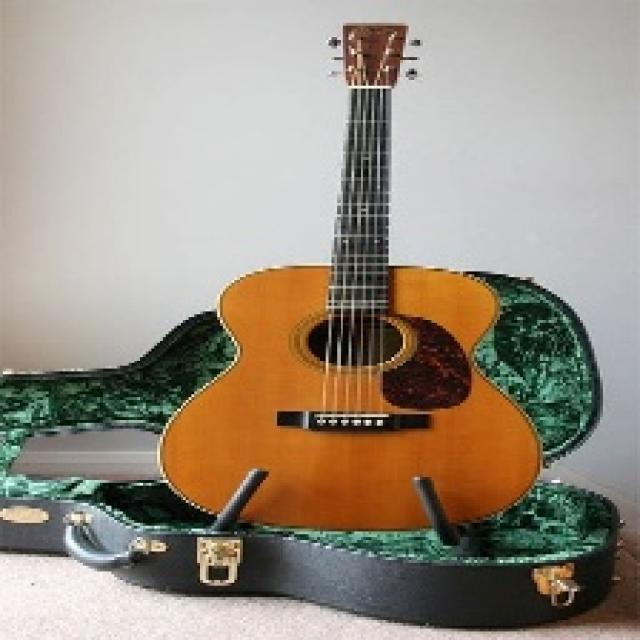acousticguitar: (159, 25, 539, 528)
